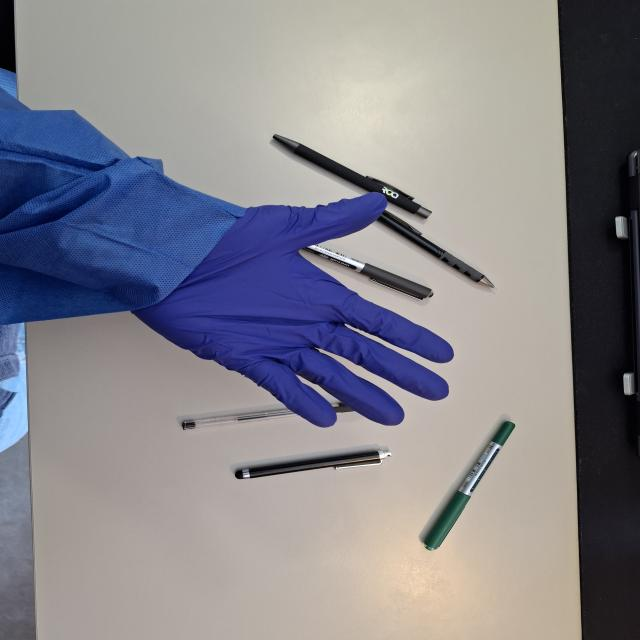glove_on: (127, 190, 458, 430)
